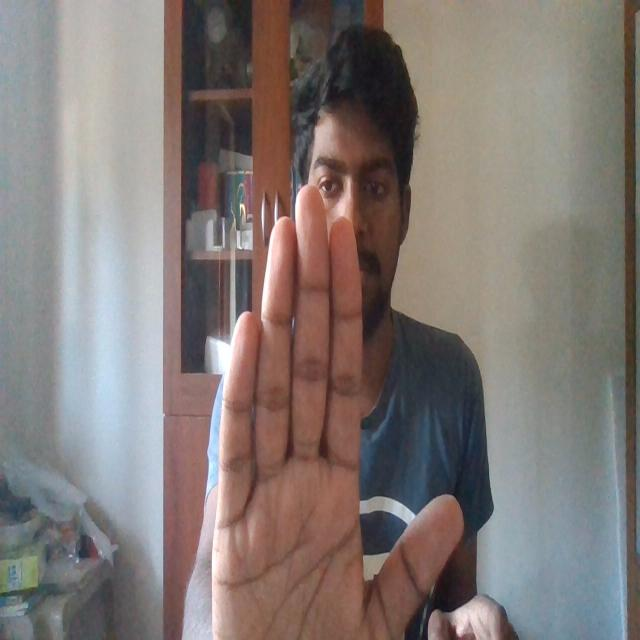Hello: (206, 178, 467, 640)
